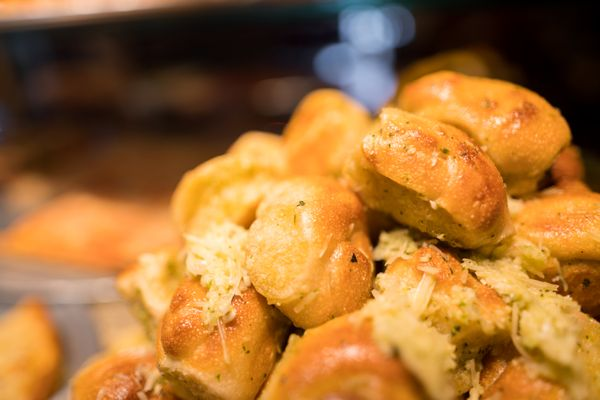salad: (394, 70, 571, 195)
